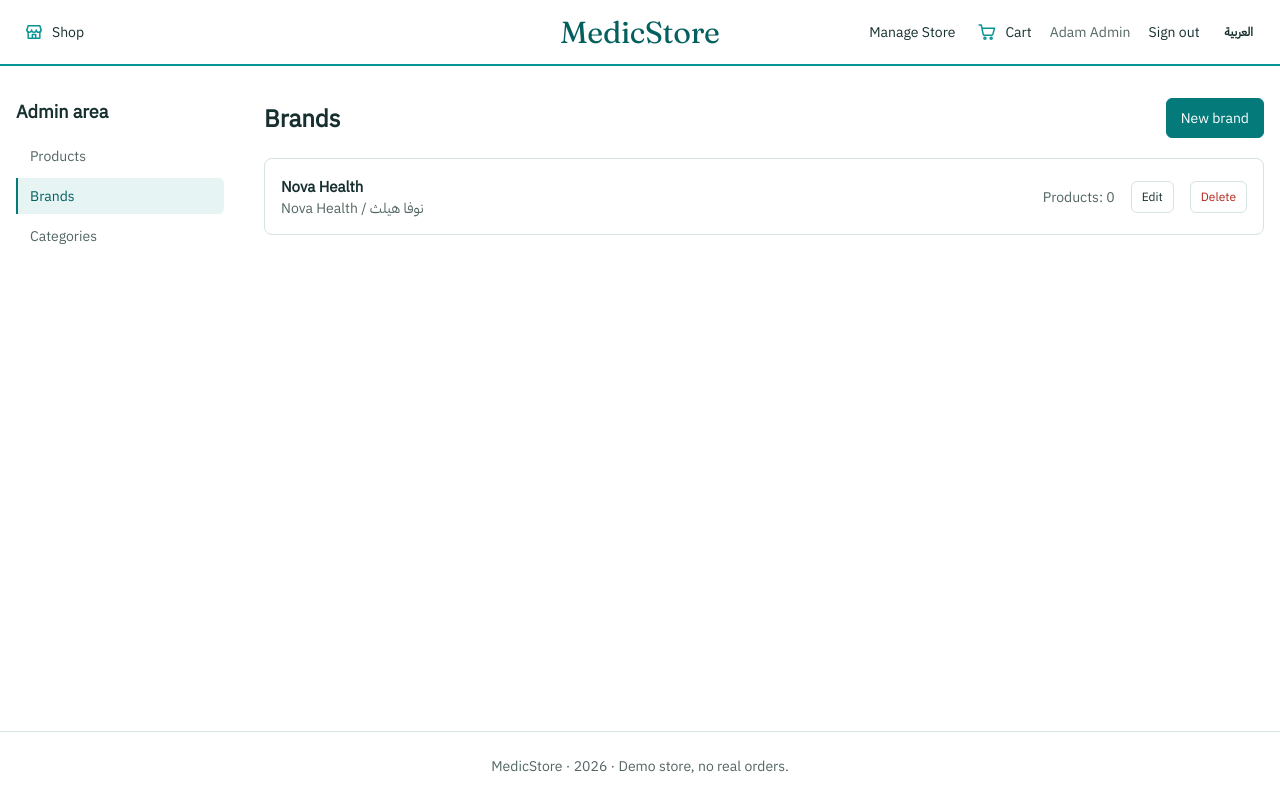
Test: deleting asks for confirmation, and cancelling sends nothing
Click the button "Delete".
click(1218, 197)  # box [1190, 181, 1247, 213]
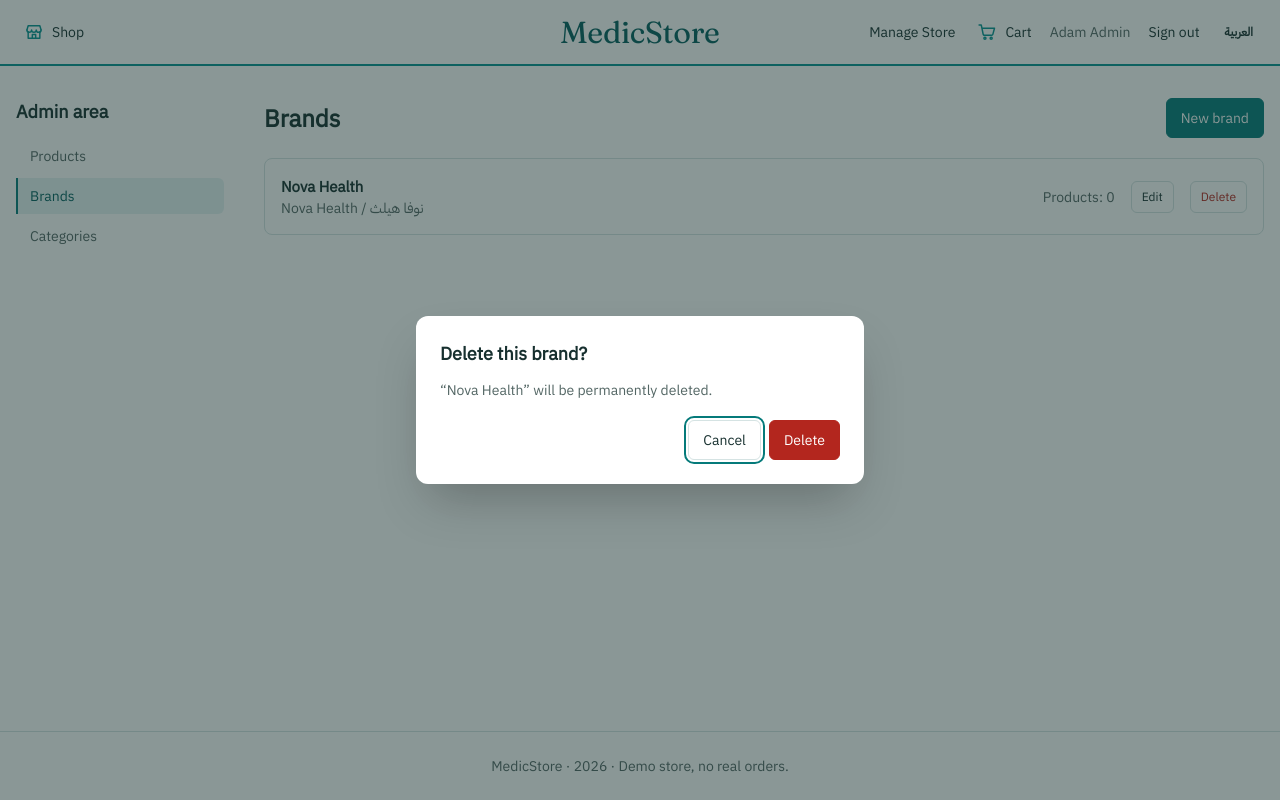
Expected: the dialog "Delete this brand?" shows "“Nova Health” will be permanently deleted.", [440, 381, 712, 399]
Click the button "Cancel".
click(725, 440)  # box [688, 420, 761, 460]
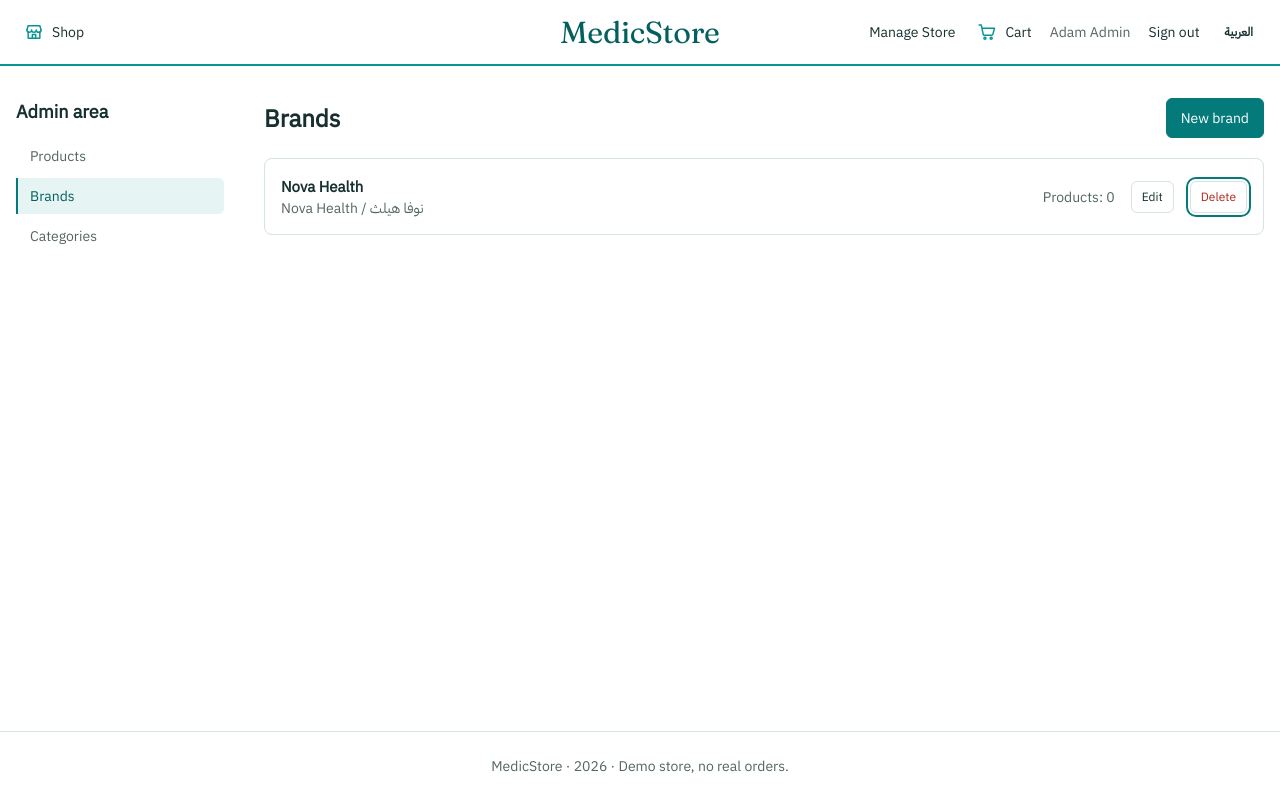
Expected: the dialog is gone
